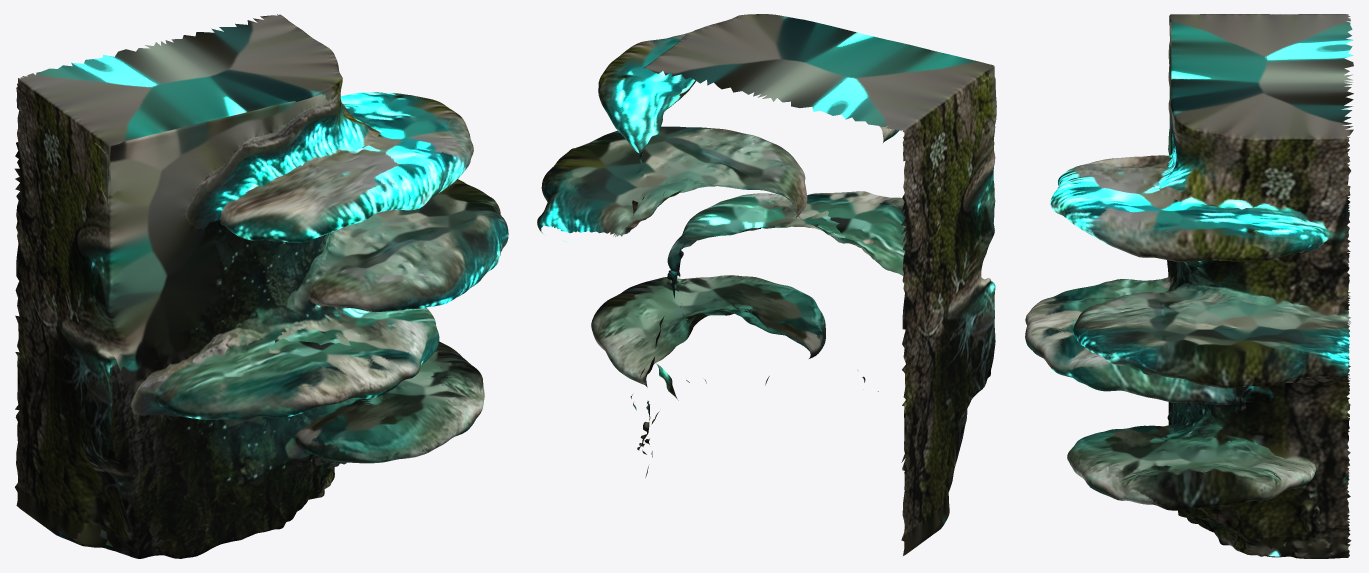
Rendered from bio_shelf_fungi.glb.
3 renders of one model, left to right at view 1: azimuth 30°, elevation 25°; view 2: azimuth 150°, elevation 25°; view 3: azimuth 270°, elevation 25°, orthographic. The views are drawn at different scales.
Parts seen in each view (by area): view 1: geometry_0; view 2: geometry_0; view 3: geometry_0.
Part boxes in pixels (x1,y1,x2,y2): geometry_0: [15, 14, 508, 558]; geometry_0: [537, 14, 996, 555]; geometry_0: [1025, 14, 1353, 558].
Bounding box in the file's own units: 1.64 × 1.65 × 1.17.
Materials: 1 (1 with a texture image).
